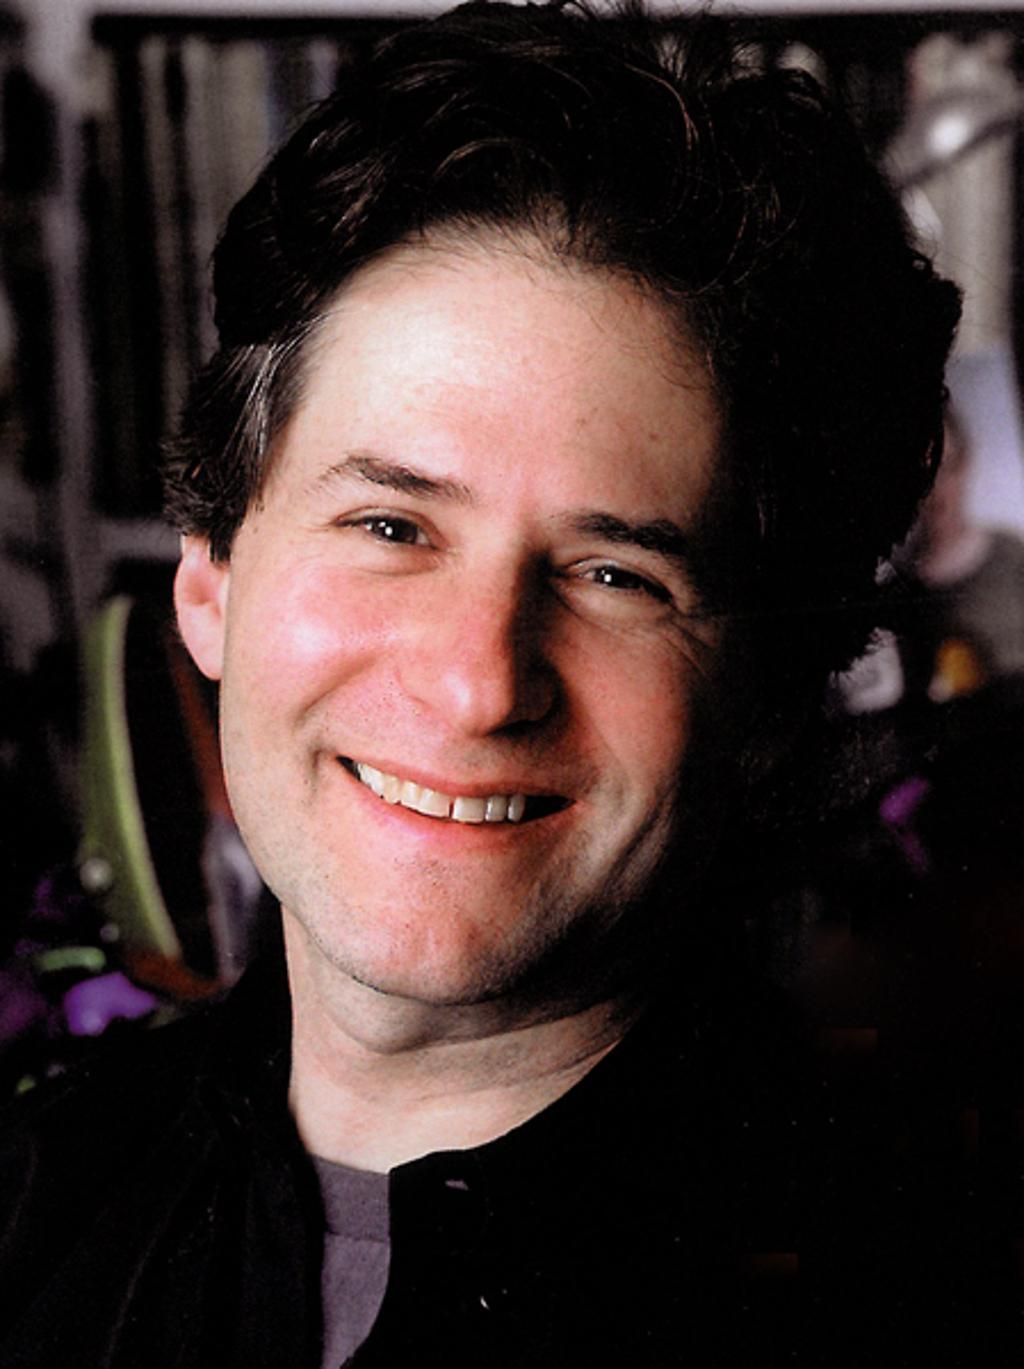face: (241, 275, 738, 997)
